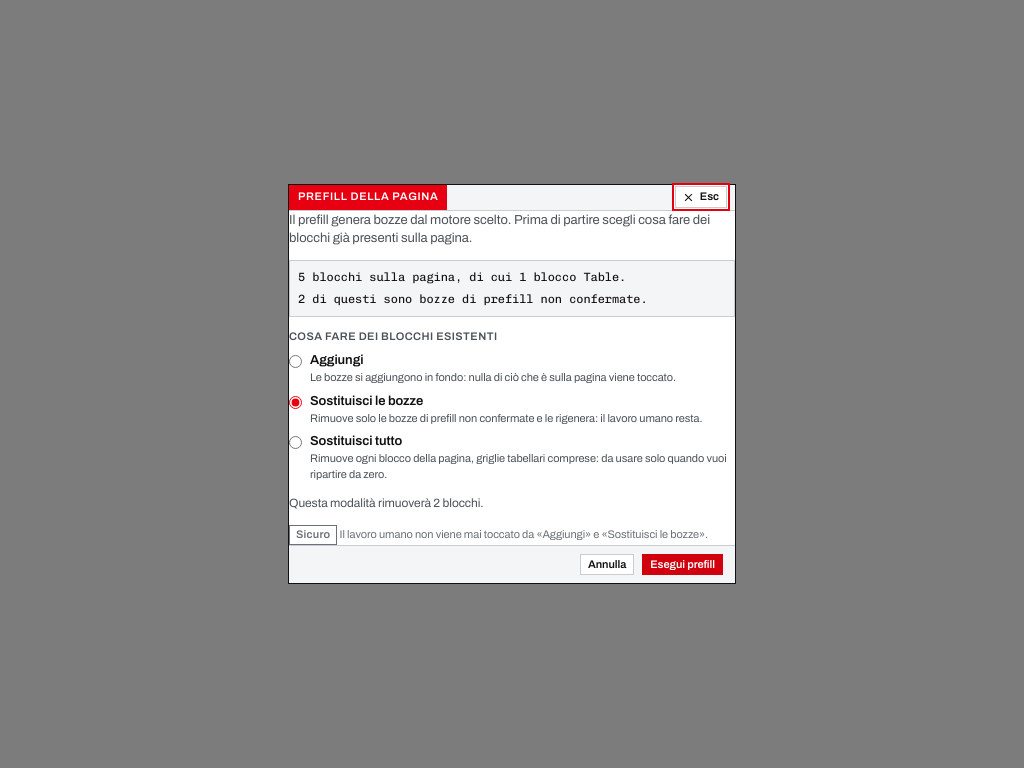
Test: PrefillDialog › «Aggiungi» non promette di rimuovere nulla
What coordinates should you click on to do the following:
click the radio button labelled "Aggiungi"
I would click on:
 (296, 361)
Its box is [289,355,302,368].
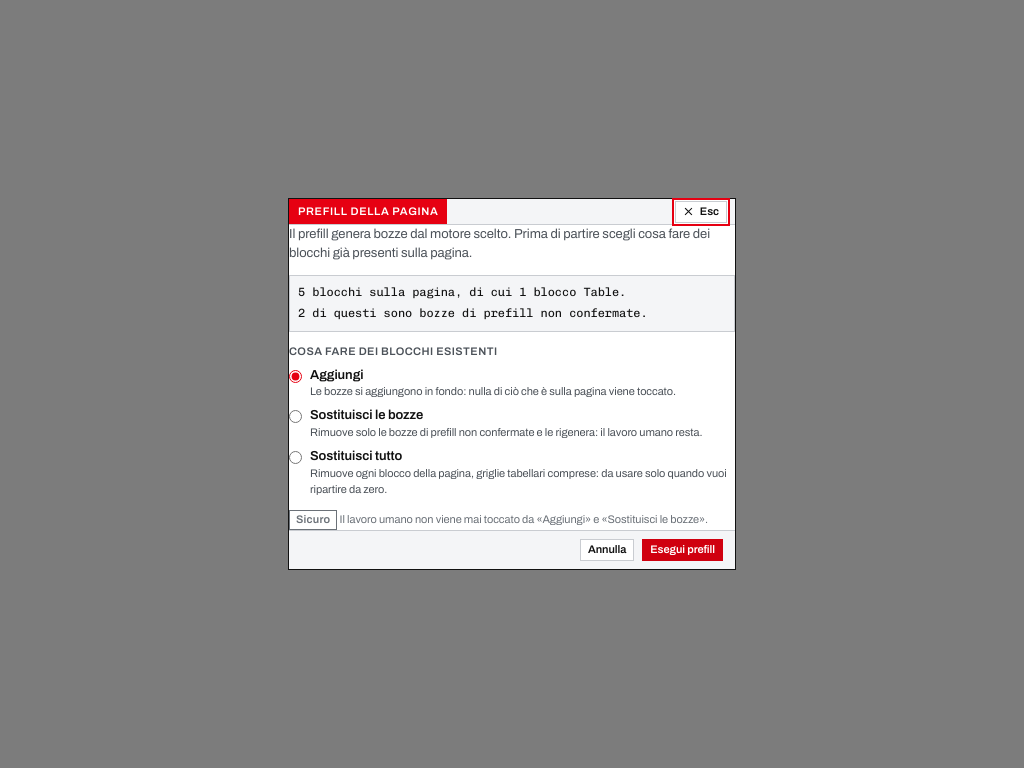
Expected: the text "rimuoverà" is gone
